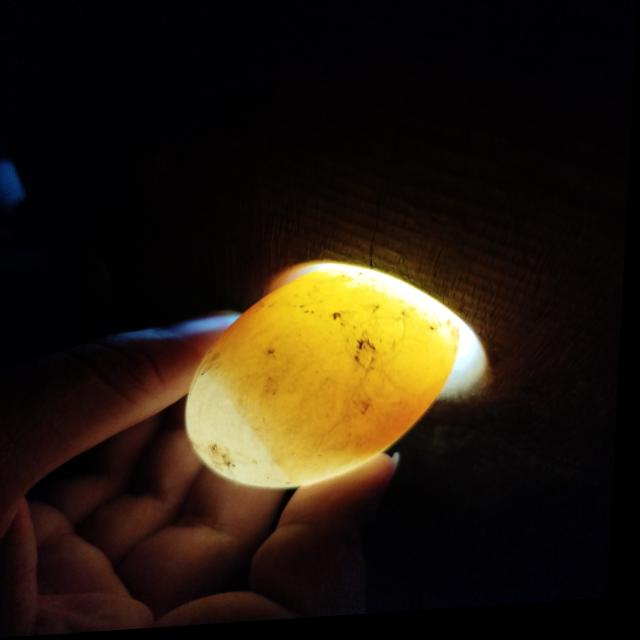Camara de Ar: (191, 373, 305, 491)
Rachadura: (319, 321, 414, 457)
